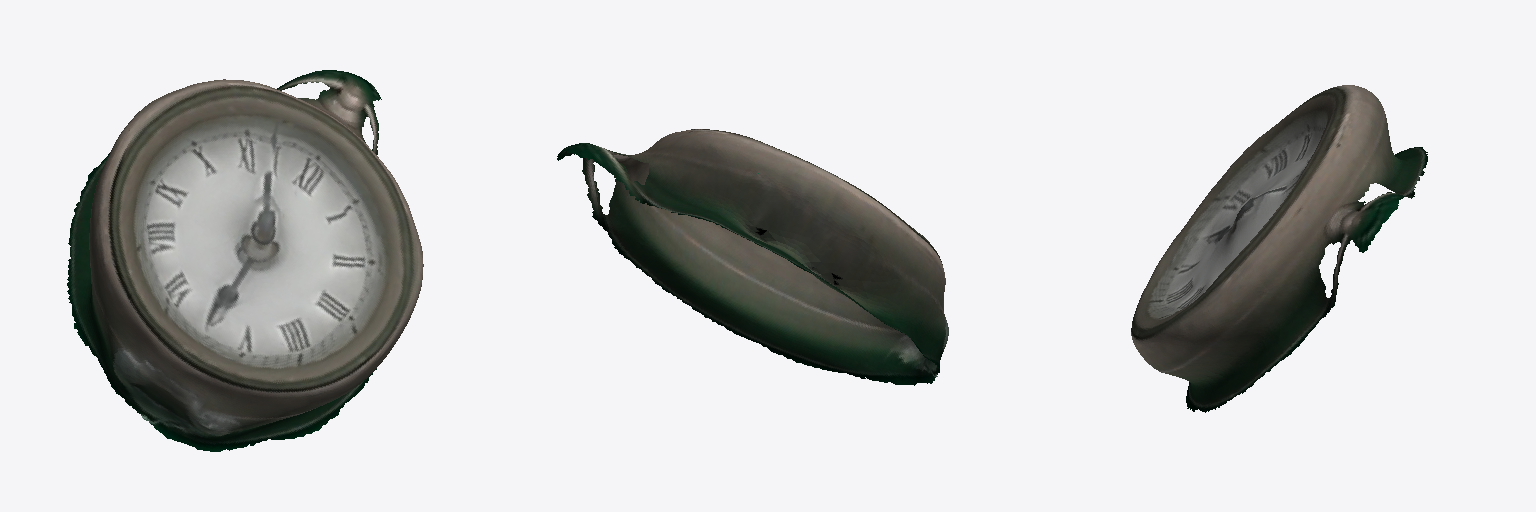
3 views of the same model, side by side, from view 1: azimuth 30°, elevation 25°; view 2: azimuth 150°, elevation 25°; view 3: azimuth 270°, elevation 25° (orthographic).
Size of the model in its own units: 0.2125 by 0.1774 by 0.1631.
Materials: 1 (1 with a texture image).